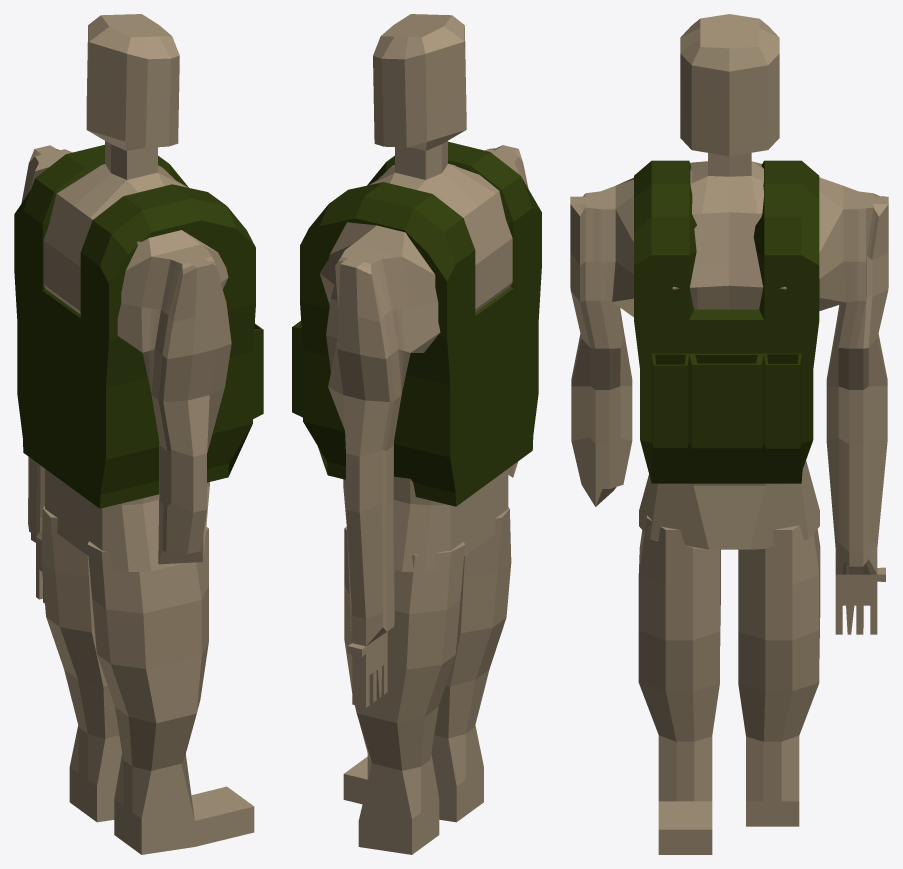
Rendered from ЗОМБИ.fbx.
The picture shows the model from 3 angles, left to right: view 1: azimuth 30°, elevation 25°; view 2: azimuth 150°, elevation 25°; view 3: azimuth 270°, elevation 25°; orthographic projection. The views are drawn at different scales.
Parts seen in each view (by area): view 1: Куб.001, Куб; view 2: Куб.001, Куб; view 3: Куб.001, Куб.
Boxes of the visible parts, x1,y1,x2,y2 form: Куб.001: (21, 14, 254, 854); Куб: (14, 144, 263, 508); Куб.001: (319, 14, 528, 854); Куб: (292, 141, 541, 506); Куб.001: (570, 14, 888, 854); Куб: (634, 160, 819, 483).
Bounding box in the file's own units: 166 × 774 × 283.
